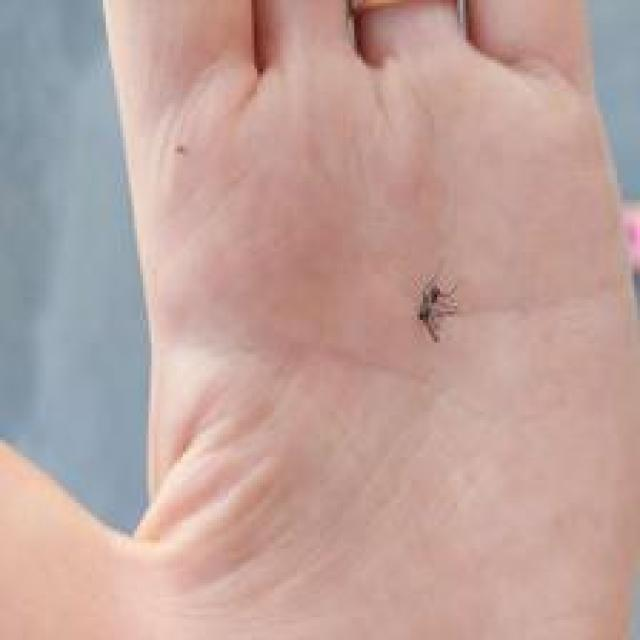Aedes albopictus: (413, 274, 458, 343)
